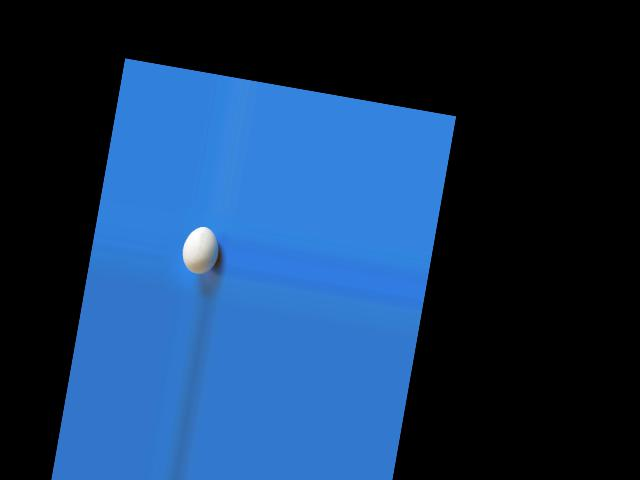egg: (179, 223, 222, 277)
